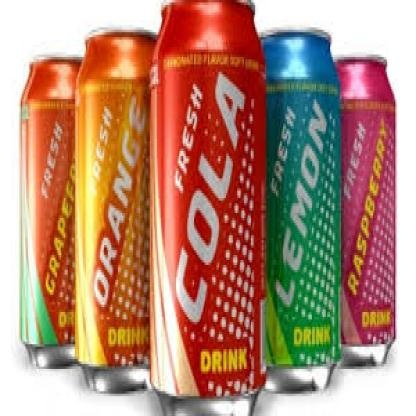trash: (0, 0, 162, 415), (254, 0, 415, 415), (151, 0, 264, 396), (262, 31, 340, 390), (75, 31, 155, 367), (20, 58, 80, 366), (336, 57, 395, 364)
